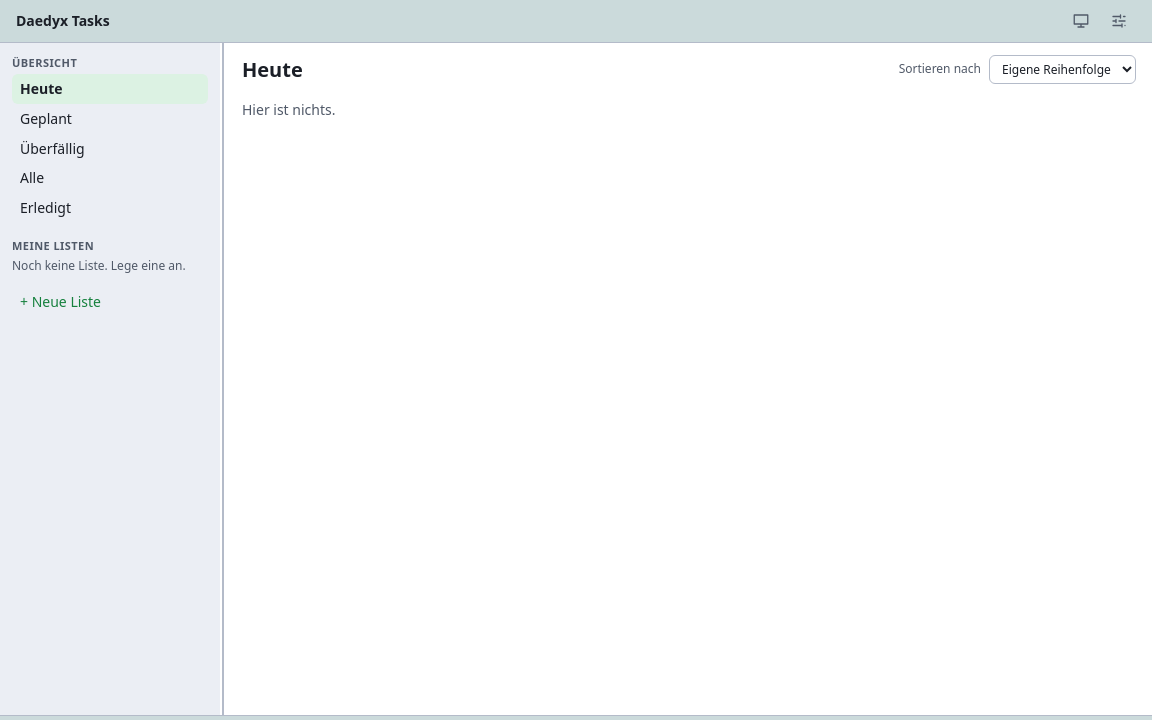
Daedyx Tasks (Hauptfenster) › legt eine Liste an, schreibt eine Aufgabe und hakt sie ab
Click the button "+ Neue Liste": [60, 301] box [12,286,109,316]
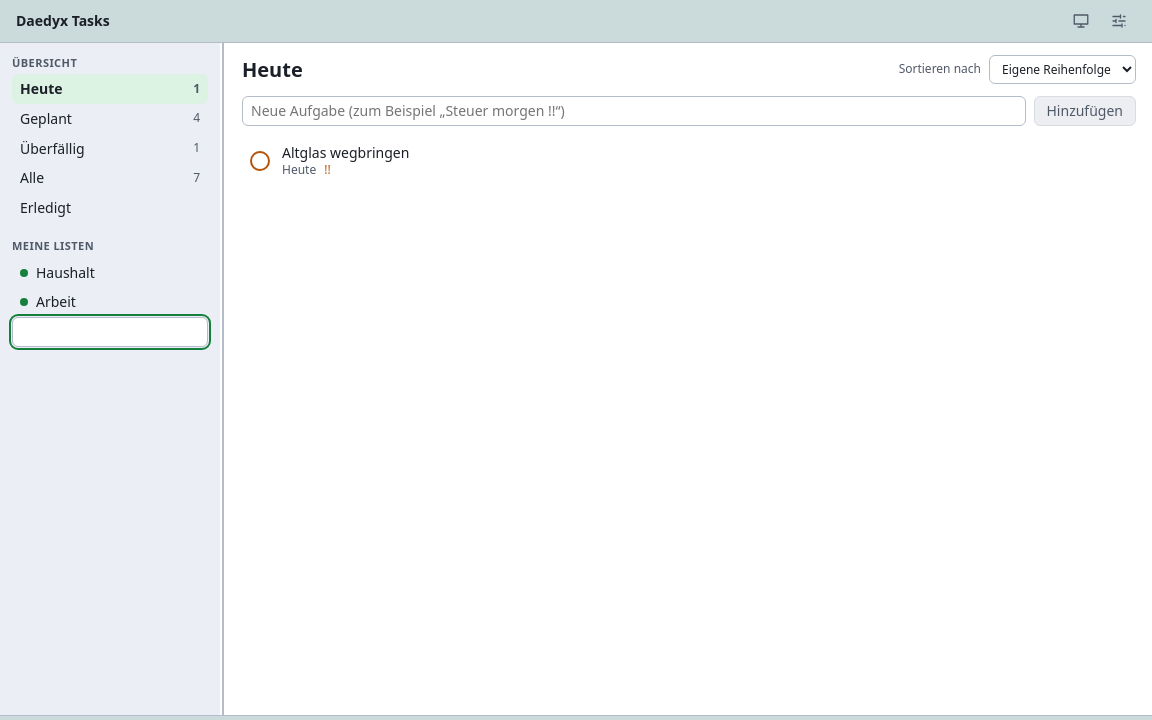
In the field named "Name der neuen Liste": [110, 332] box [12,317,208,346], type "Urlaub"
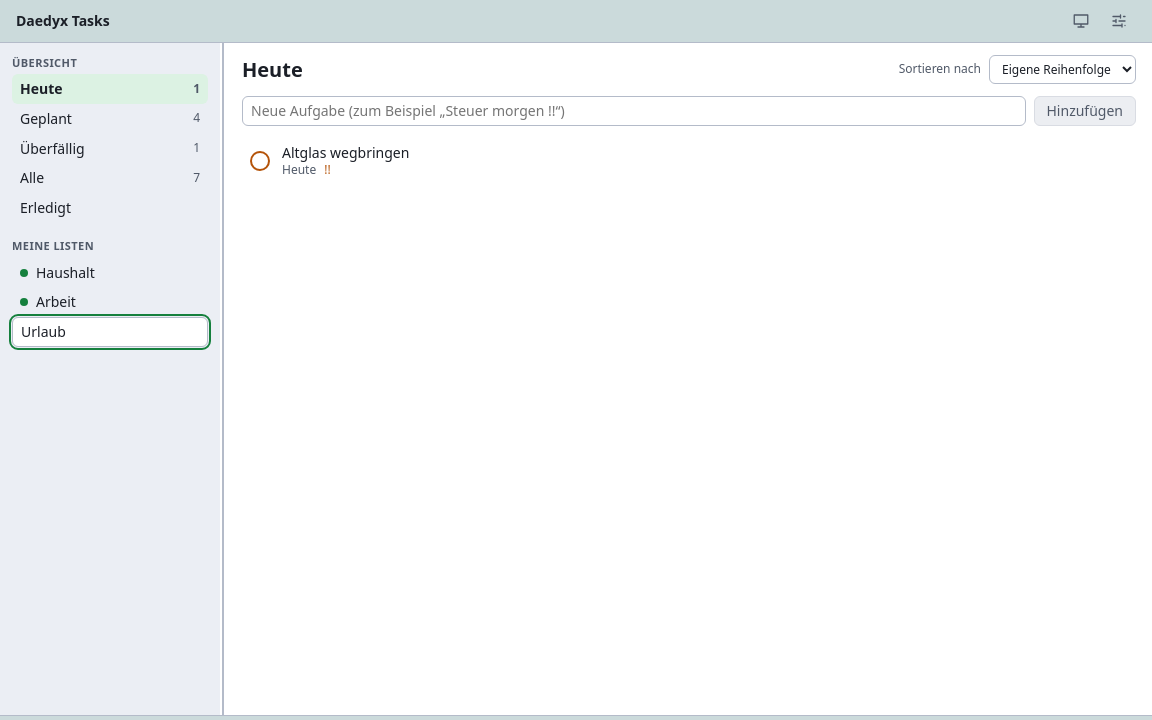
Press Enter in the field named "Name der neuen Liste", box [12,317,208,346]
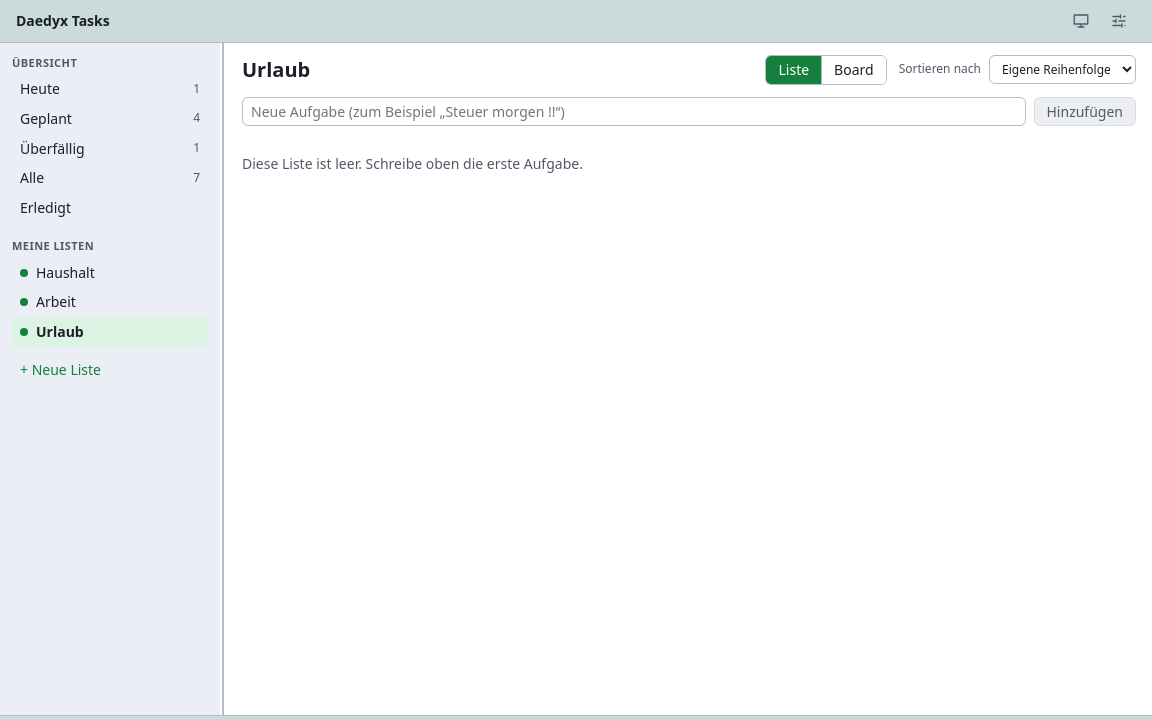
Result: the heading "Urlaub" is shown at [242,56,310,83]
In the field labelled "Neue Aufgabe": [634, 111] box [242,97,1026,126], type "Koffer packen"
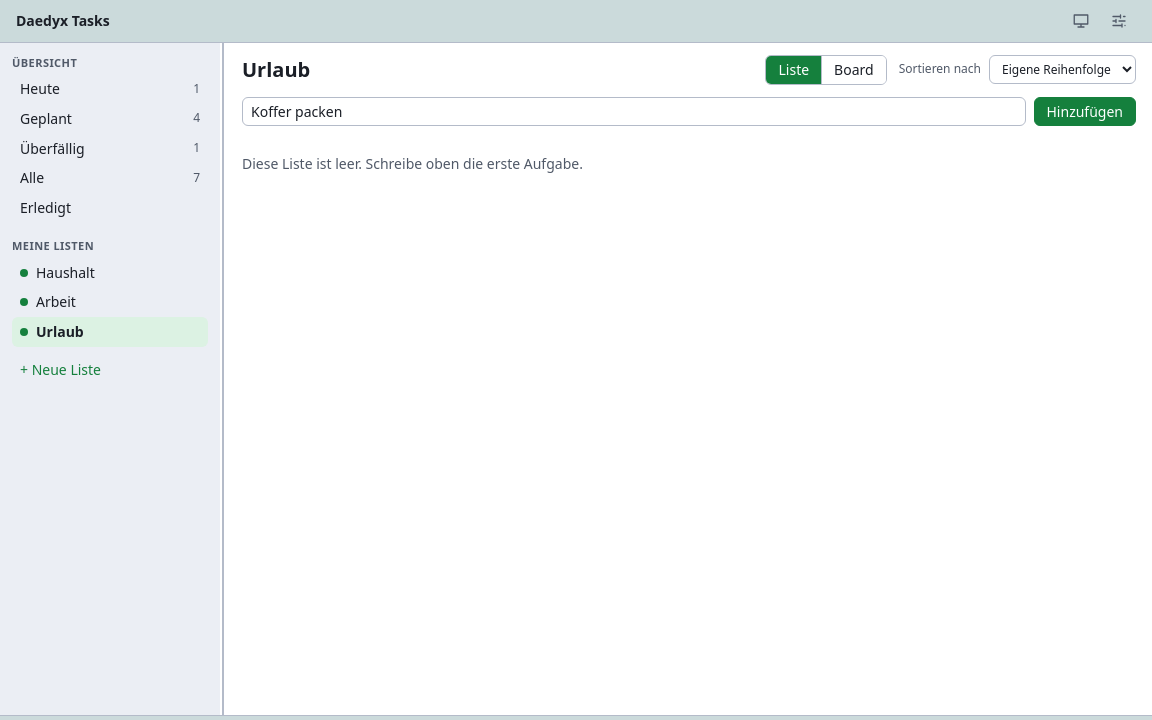
Click the button "Hinzufügen": [1085, 111] box [1034,97,1136,126]
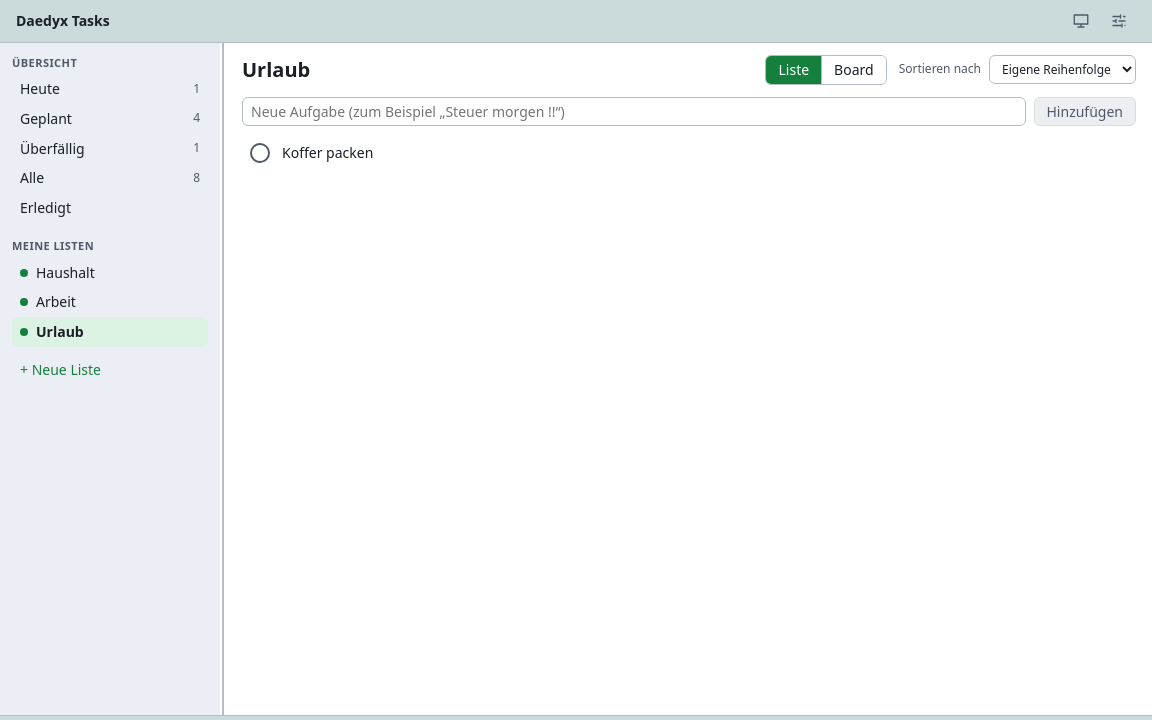
Click the checkbox named "Koffer packen abhaken": [260, 153] box [250,143,270,163]
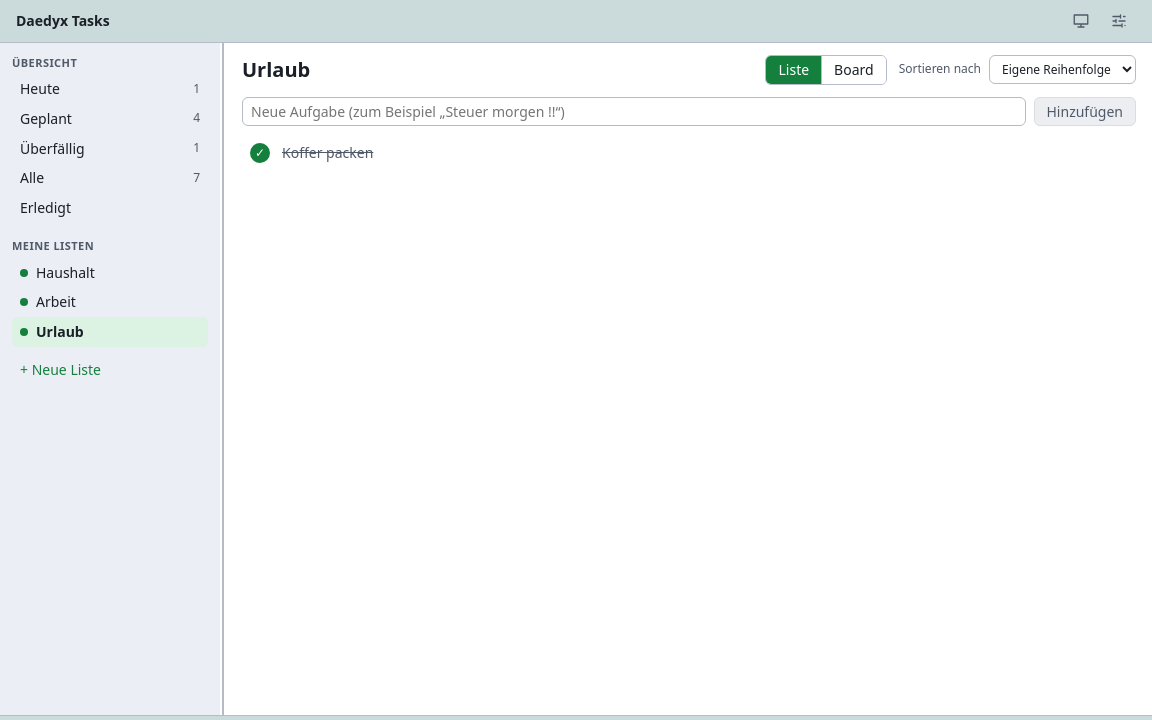
Result: the checkbox named "Koffer packen wieder öffnen" is checked at [250,143,270,163]
